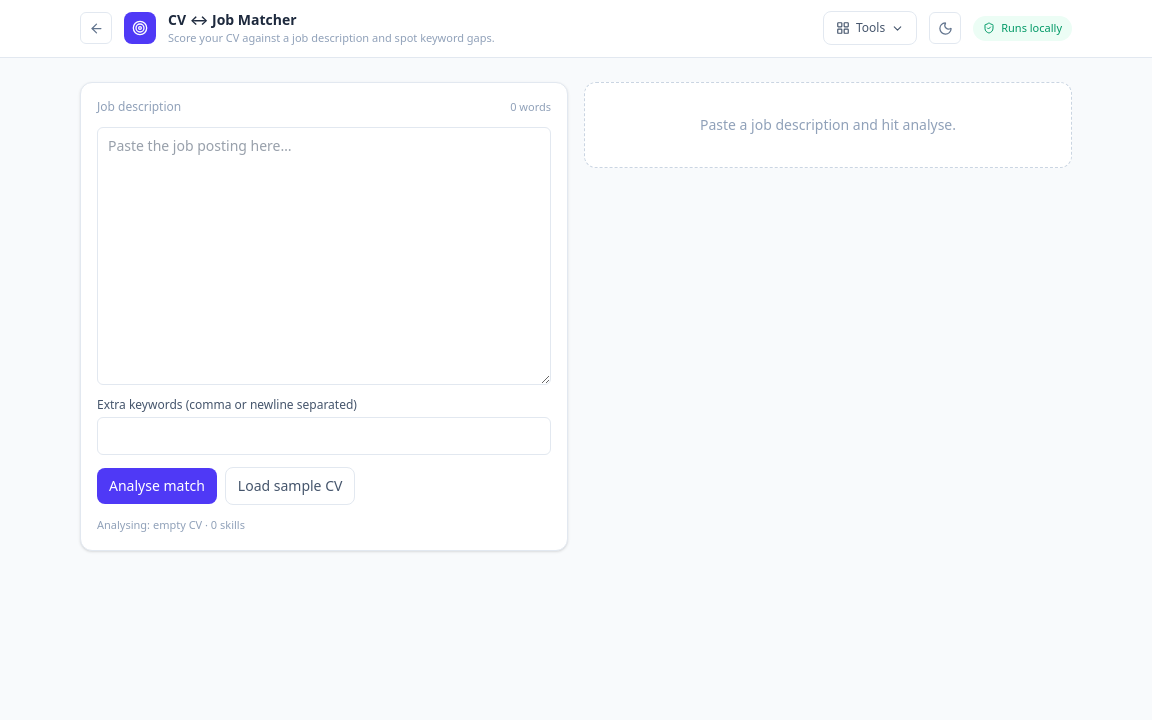
Test case: CvJobMatcherApp › saves an analysis to history
The width and height of the screenshot is (1152, 720).
Type "react typescript" into the text box named "Job description".
click(324, 256); type("react typescript")  # box top-left (97, 127), bottom-right (551, 385)
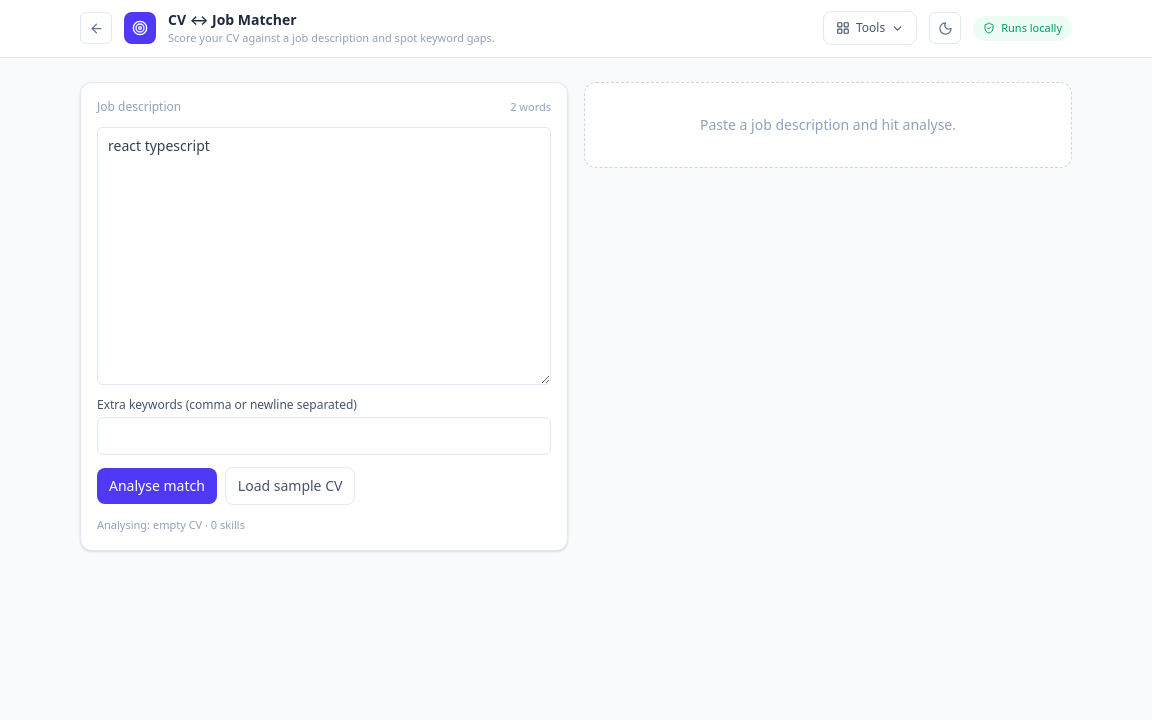
Click the button "Analyse match".
click(157, 486)  # box top-left (97, 468), bottom-right (217, 504)
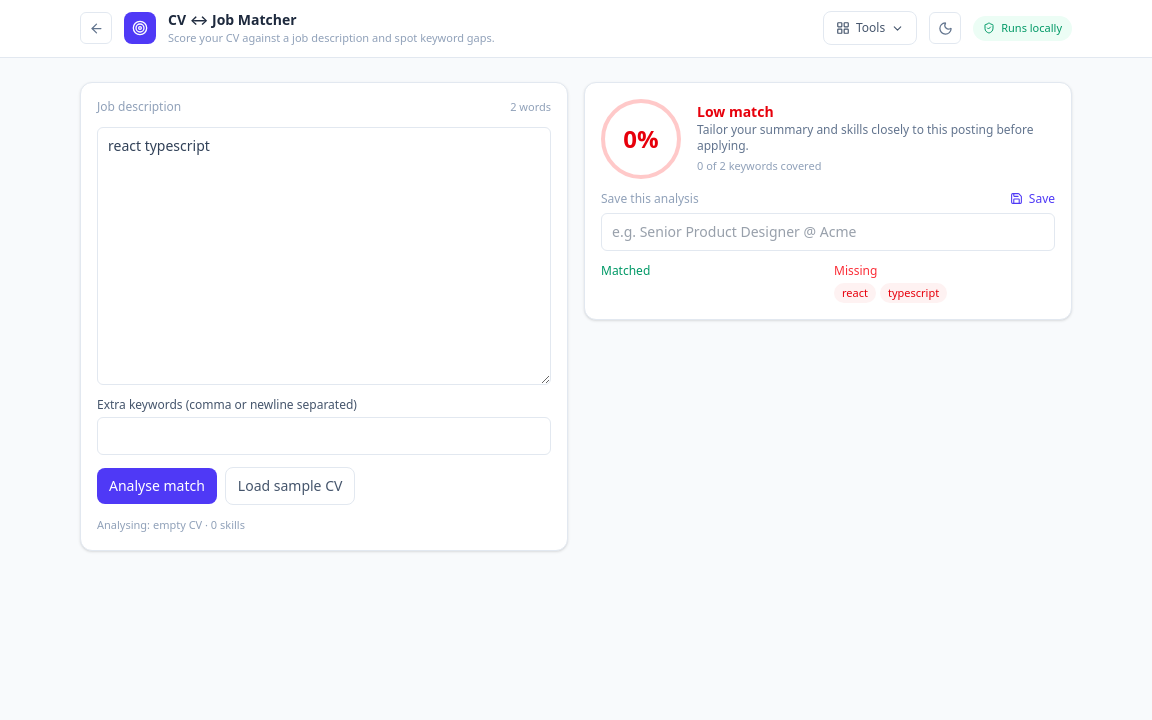
Type "Acme role" into the field named "Analysis label".
click(828, 232); type("Acme role")  # box top-left (601, 212), bottom-right (1055, 250)
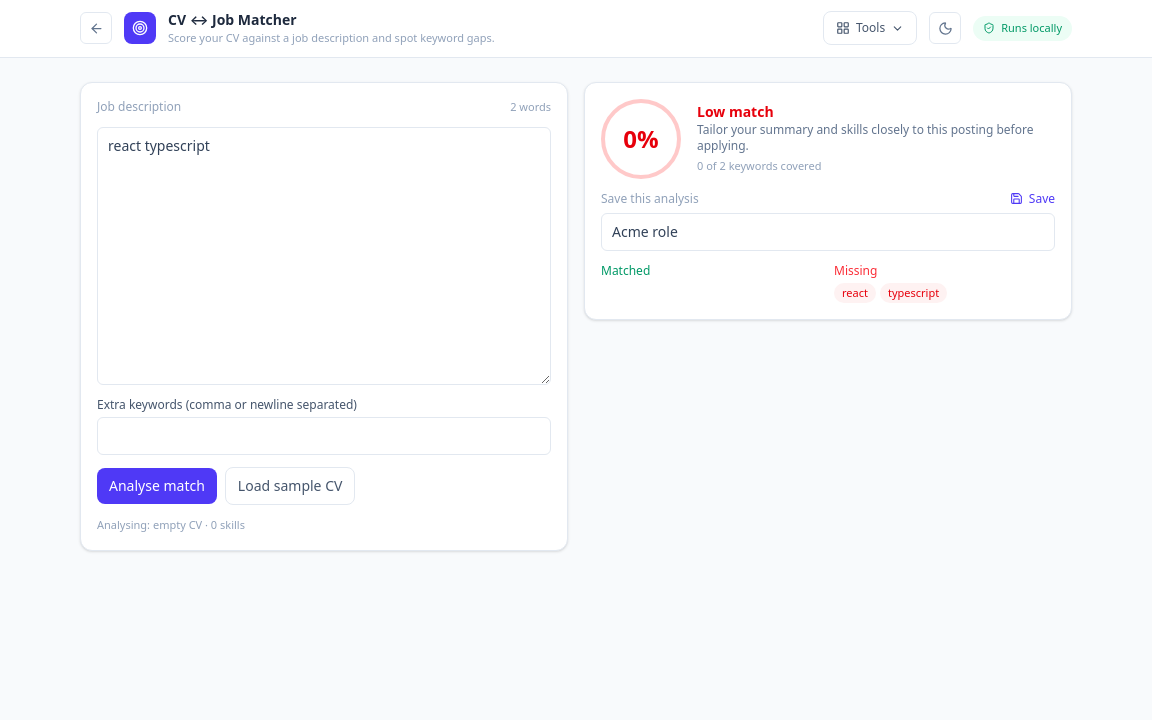
Click the button "Save".
click(1032, 198)  # box top-left (1010, 190), bottom-right (1055, 206)
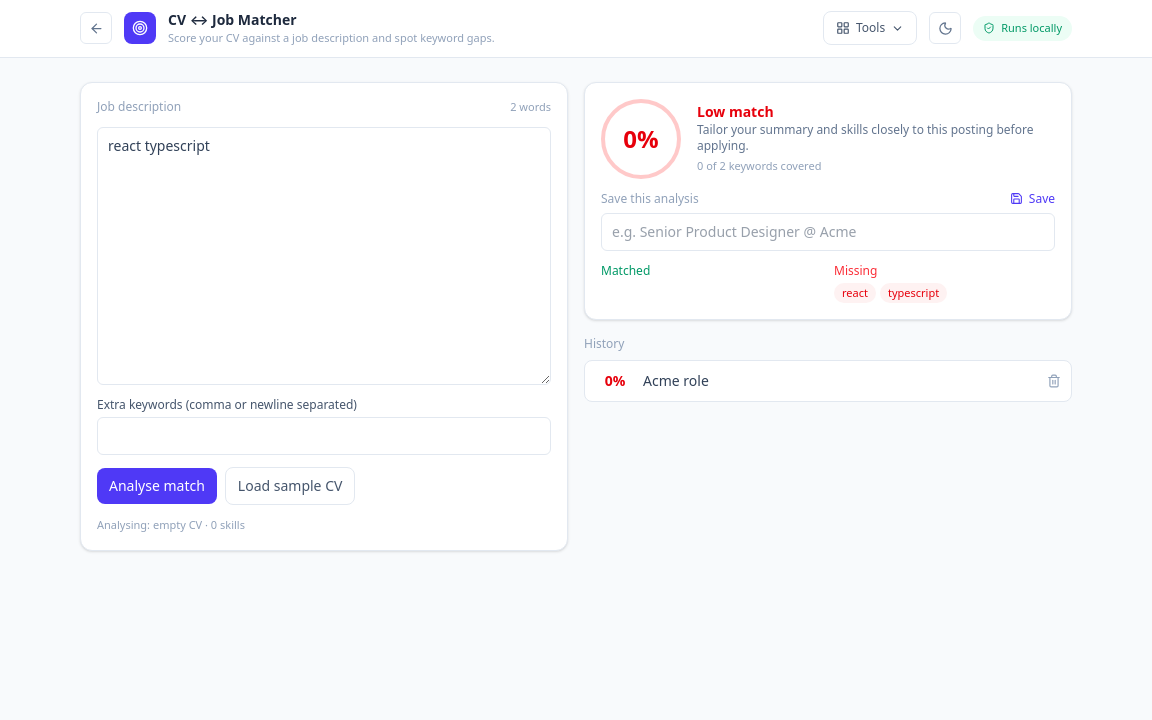
Now the text "Acme role" is shown, box top-left (643, 371), bottom-right (709, 390)
